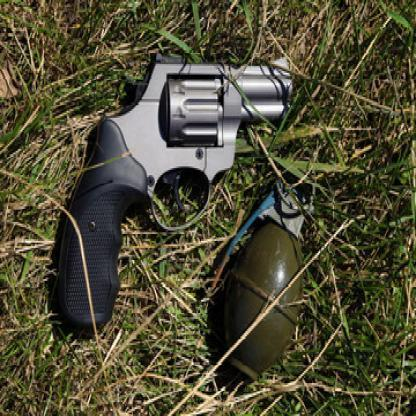Grenade: (207, 179, 320, 386)
Pistol: (53, 56, 297, 334)
